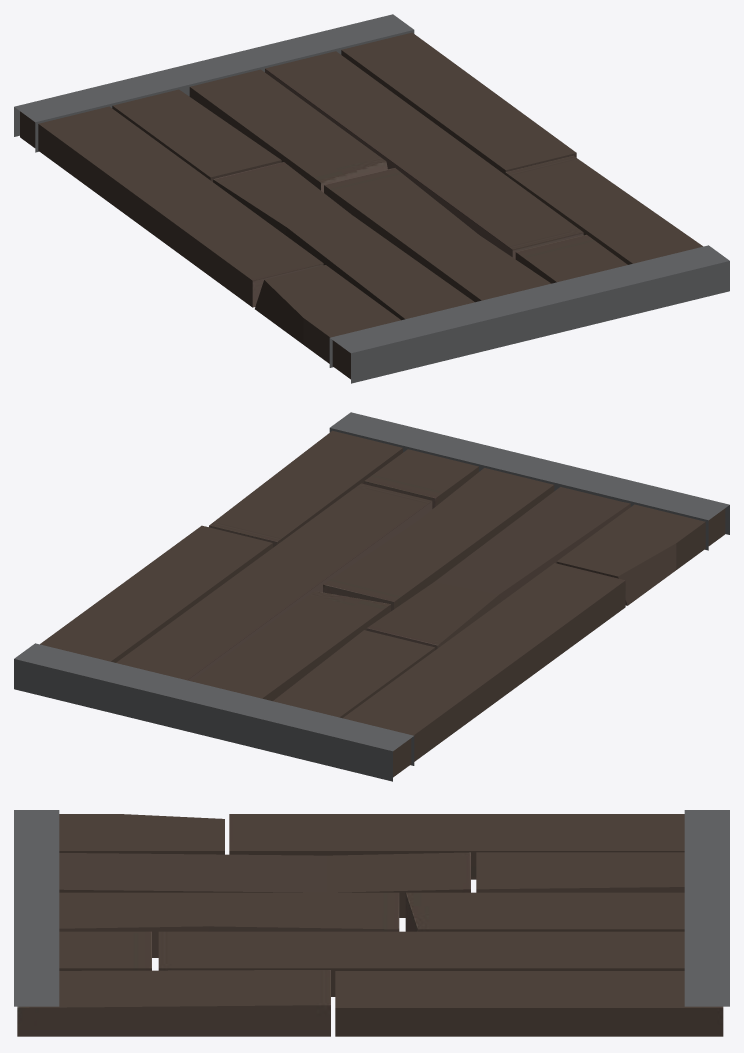
File: floorboards.glb
3 renders of one model, top to bottom at view 1: azimuth 30°, elevation 25°; view 2: azimuth 150°, elevation 25°; view 3: azimuth 270°, elevation 25°, orthographic. The views are drawn at different scales.
Visible parts, largest first — view 1: floor_1; view 2: floor_1; view 3: floor_1.
Part boxes in pixels (x1,y1,x2,y2): floor_1: (14, 14, 729, 383); floor_1: (14, 412, 729, 781); floor_1: (14, 810, 729, 1036).
Size of the model in its own units: 0.6496 by 0.0498 by 1.
1 material, 1 textured.
